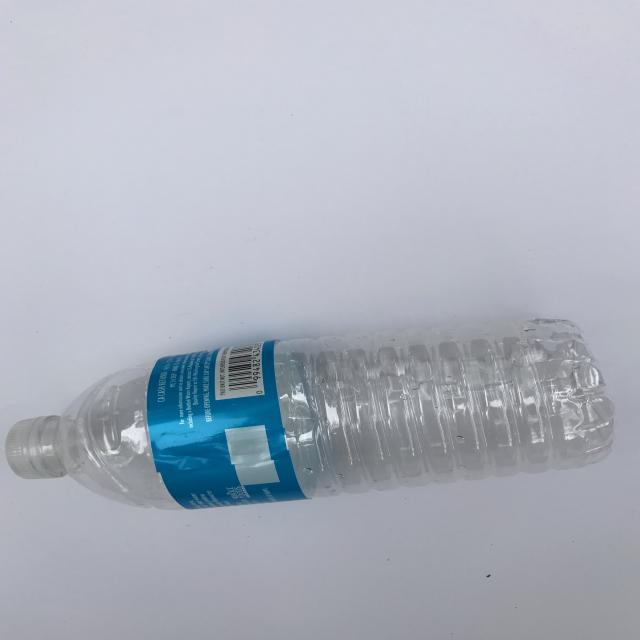plastic: (5, 316, 616, 511)
